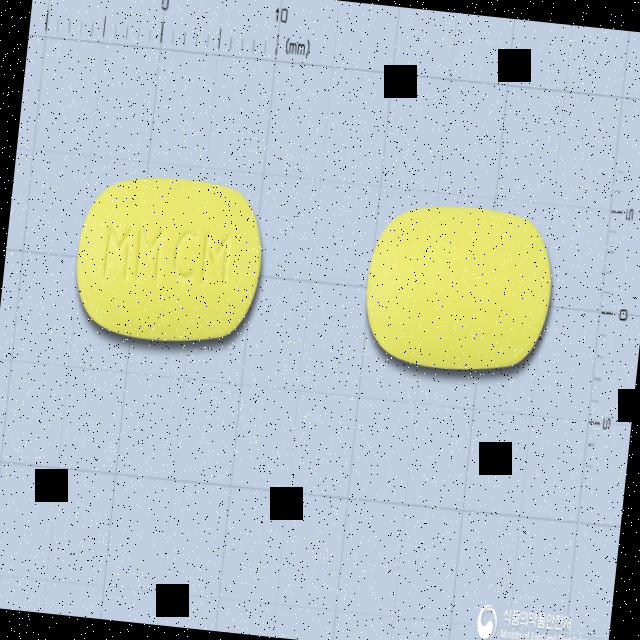Claricin - 250mg: (66, 162, 275, 355)
